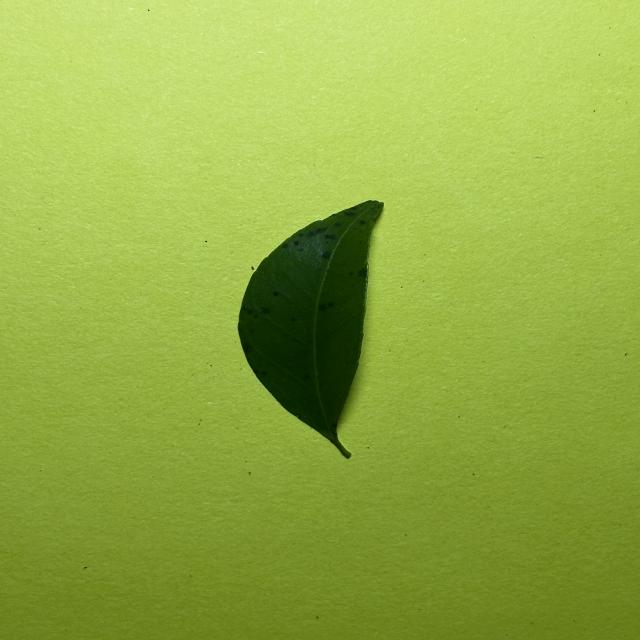sooty_mold: (238, 201, 383, 457)
